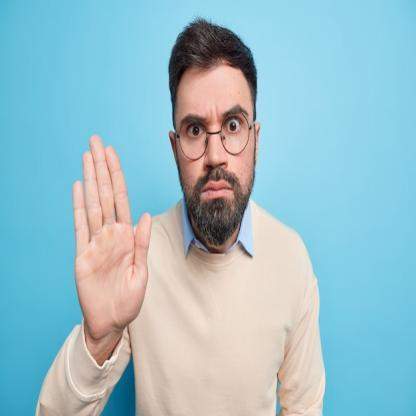stop: (70, 132, 156, 340)
